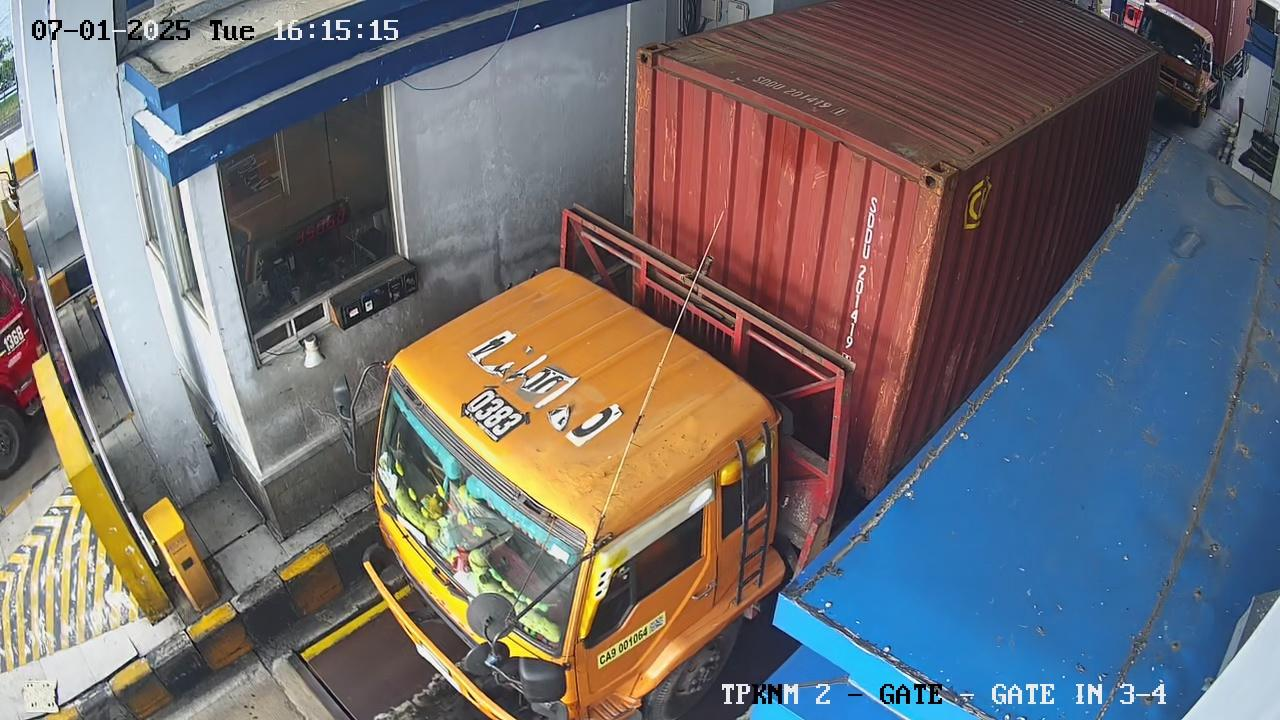Container_ID: (696, 71, 848, 125)
Container_ID_Vertikal: (839, 197, 880, 361)
truck_id: (596, 611, 670, 670), (460, 386, 530, 444), (622, 652, 647, 674), (611, 616, 629, 637)
